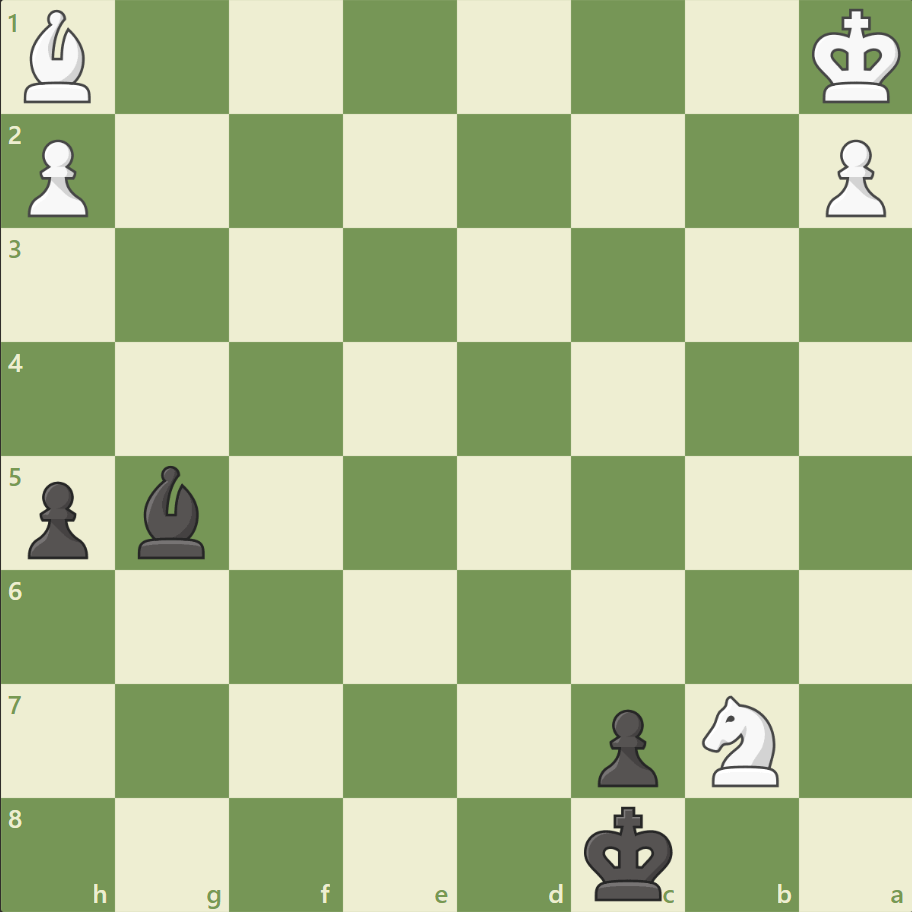B: (17, 6, 101, 109)
K: (806, 4, 906, 112)
N: (692, 688, 789, 791)
P: (20, 132, 95, 223), (815, 132, 889, 223)
b: (131, 460, 215, 563)
k: (579, 798, 679, 906)
p: (20, 473, 95, 564), (588, 700, 662, 791)
